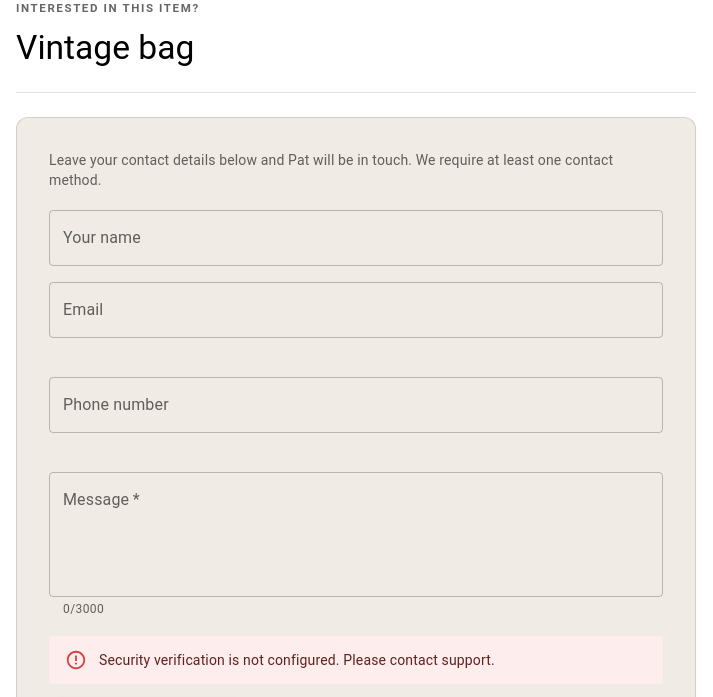
Scenario: InquiryPage › blocks submission when no contact method is provided
The image size is (713, 697).
Expected: the heading "Vintage bag" is shown, 16,28 -> 194,67
Type "Is this still available?" into the text box labelled "Message *" at x=356, y=534, box 63,488 -> 649,580
(page scrolled)
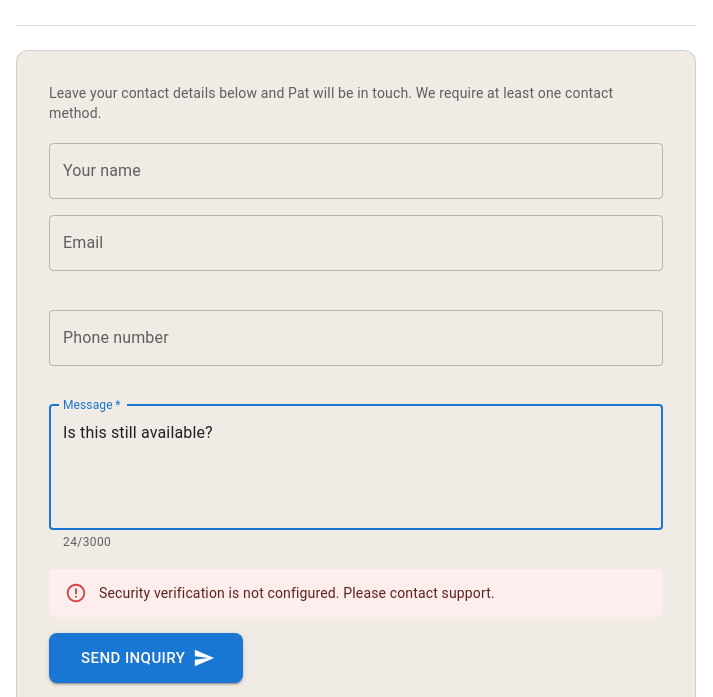
Click the button "Send Inquiry" at x=146, y=658, box 49,633 -> 243,683
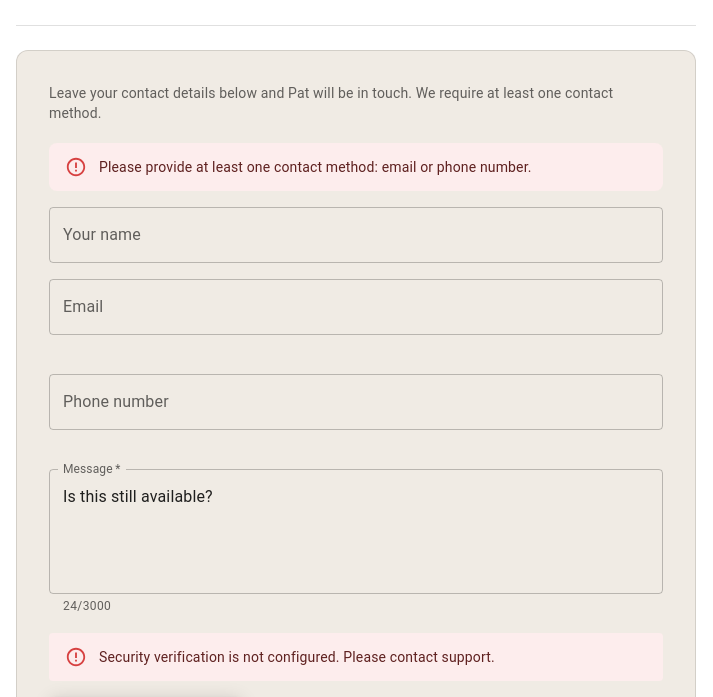
Expected: the text "Please provide at least one contact method" is shown, 99,159 -> 532,175
